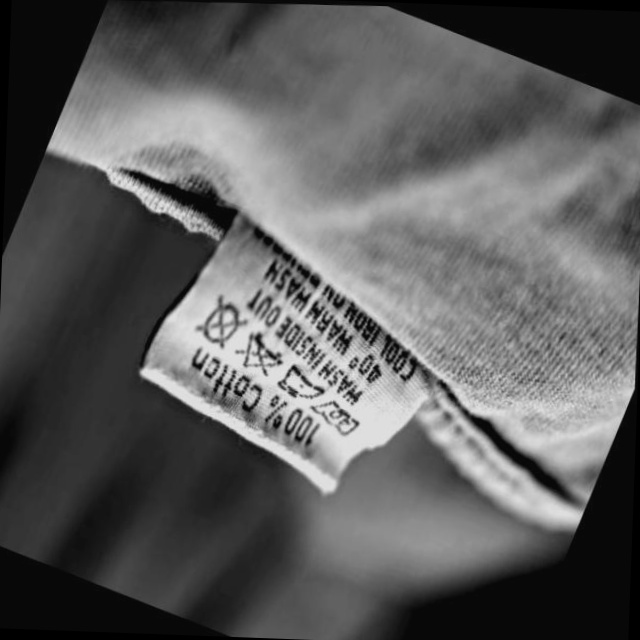40C: (309, 397, 358, 437)
DN_bleach: (238, 330, 284, 378)
DN_dry_clean: (191, 295, 243, 352)
iron_low: (274, 358, 323, 406)
